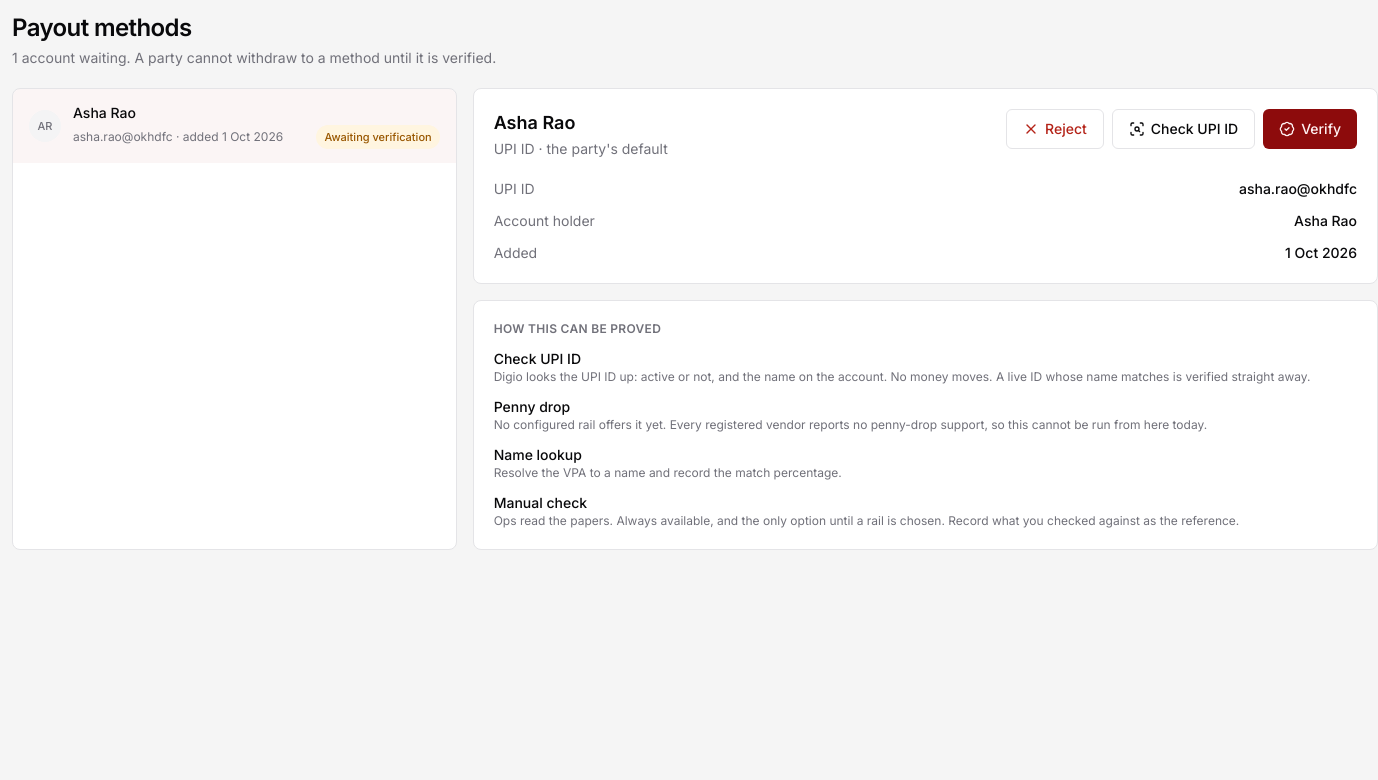
Test: Check UPI ID › keeps Not found and Name doesn't match on the card, with the name, the score and the reason
Click the button "Check UPI ID": coordinates (1184, 129) [1112,109,1255,149]
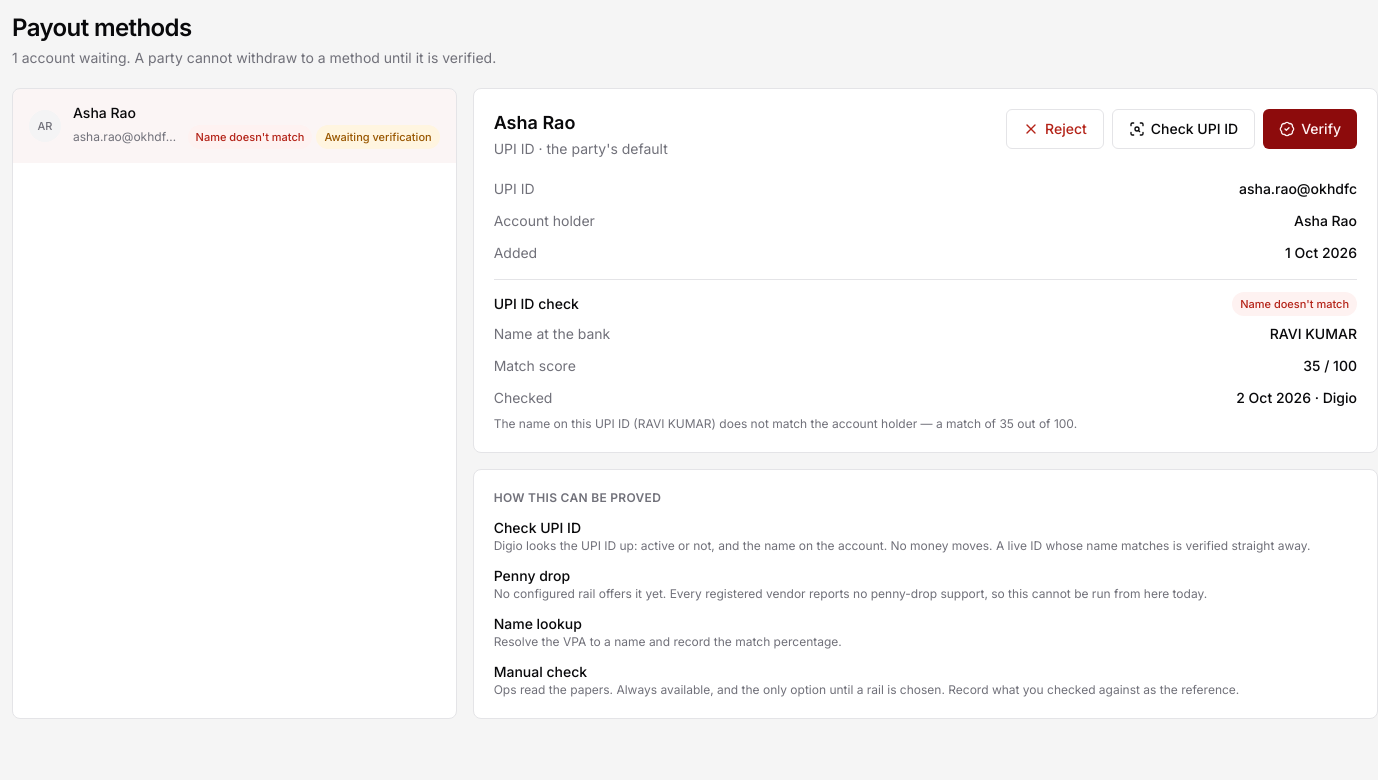
Expected: the text "Name doesn't match" in the row of "UPI ID check" is shown, [1240,297,1349,311]
Expected: the text "RAVI KUMAR" is shown, [1270,324,1357,344]
Expected: the text "35 / 100" is shown, [1303,356,1357,376]
Click the button "Check UPI ID": coordinates (1184, 129) [1112,109,1255,149]
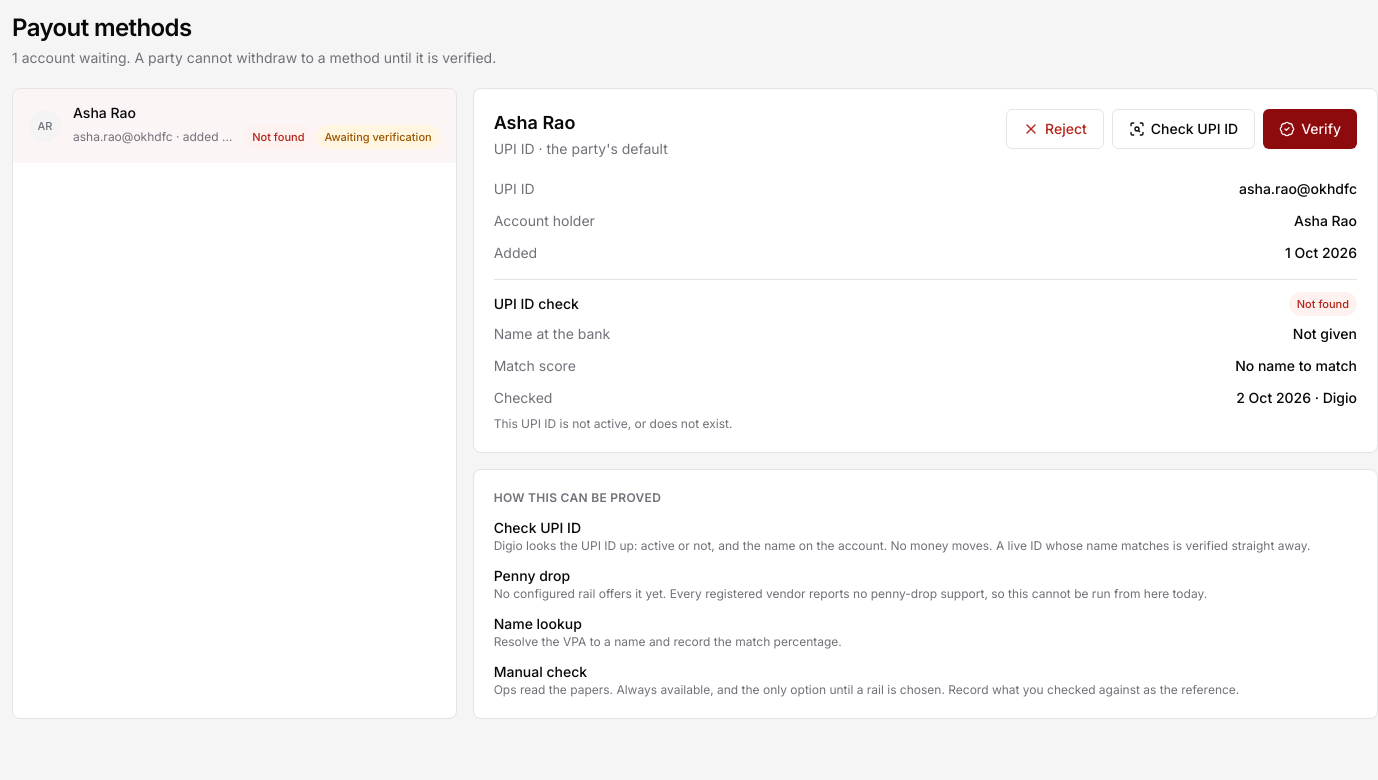
Expected: the text "Not found" in the row of "UPI ID check" is shown, [1297,297,1349,311]
